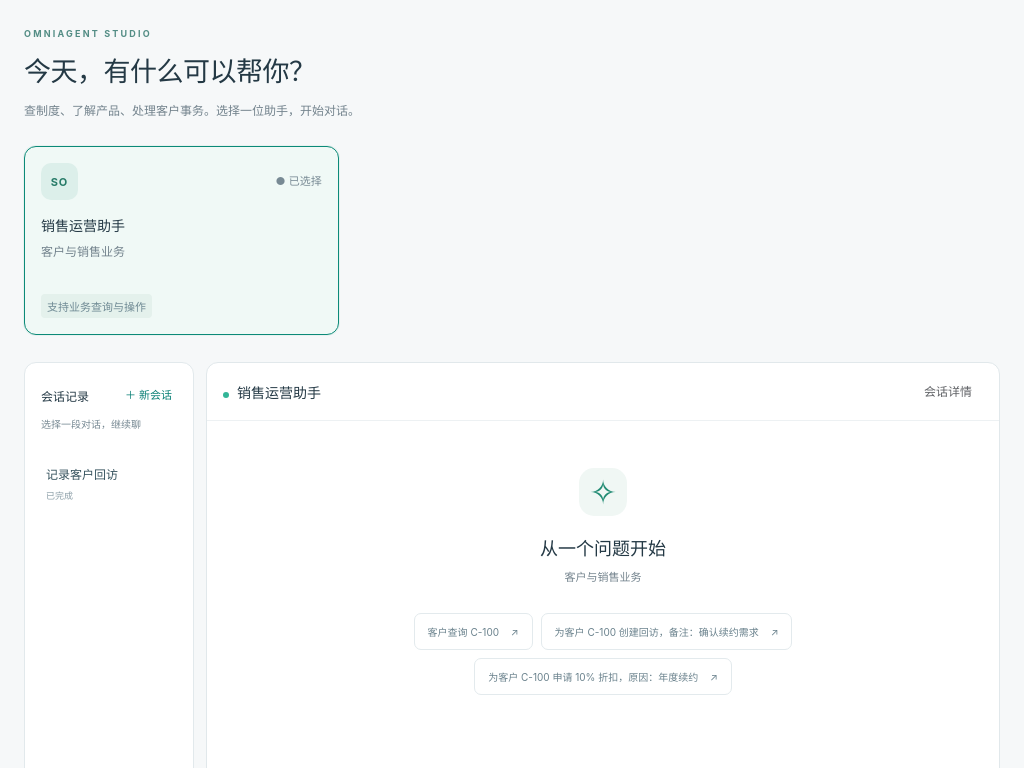
it: renders persisted failed operations with null results without claiming success
The image size is (1024, 768).
Click the button with class "session-item".
click(109, 484)  # box x1=25 y1=451 x2=193 y2=516
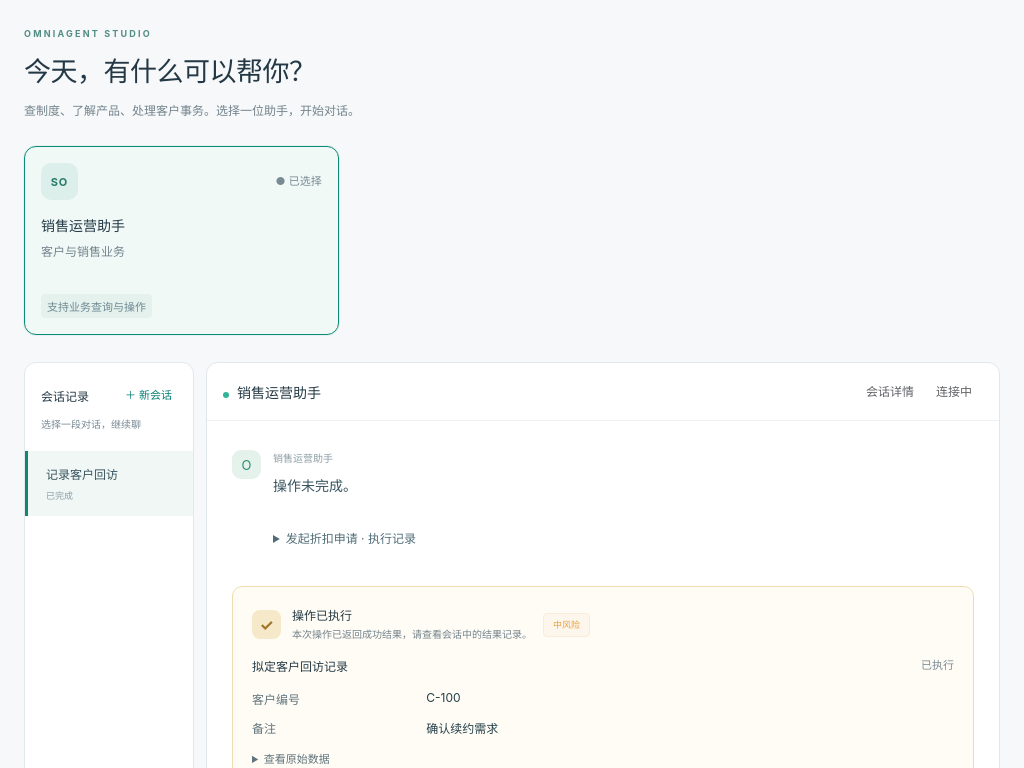
Check: the number of elements with class "execution-record" is 1, box x1=286 y1=531 x2=416 y2=546
